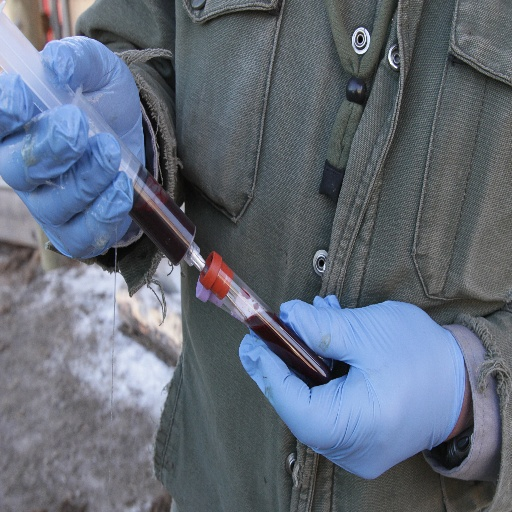hand: (208, 299, 459, 464), (0, 33, 147, 261)
